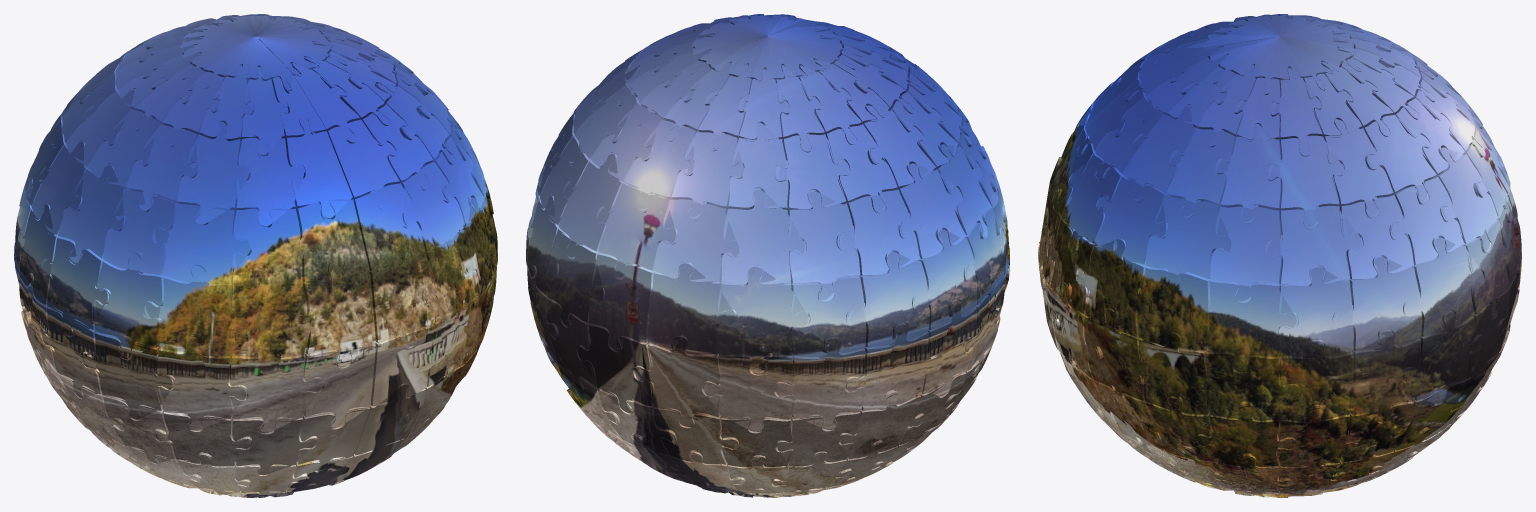
File: hard-puzzle-v6.fbx
3 views of the same model, side by side, from view 1: azimuth 30°, elevation 25°; view 2: azimuth 150°, elevation 25°; view 3: azimuth 270°, elevation 25° (orthographic).
Parts seen in each view (by area): view 1: Street_View_360_1.041, Street_View_360_1.117, Street_View_360_1.027, Street_View_360_1.134, Street_View_360_1.099, Street_View_360_1.135, Street_View_360_1.116, Street_View_360_1.118, Street_View_360_1.098, Street_View_360_1.026, Street_View_360_1.115, Street_View_360_1.081 (+57 smaller); view 2: Street_View_360_1.041, Street_View_360_1.104, Street_View_360_1.105, Street_View_360_1.086, Street_View_360_1.085, Street_View_360_1.121, Street_View_360_1.103, Street_View_360_1.122, Street_View_360_1.102, Street_View_360_1.123, Street_View_360_1.087, Street_View_360_1.120 (+57 smaller); view 3: Street_View_360_1.041, Street_View_360_1.111, Street_View_360_1.110, Street_View_360_1.109, Street_View_360_1.092, Street_View_360_1.112, Street_View_360_1.129, Street_View_360_1.093, Street_View_360_1.094, Street_View_360_1.127, Street_View_360_1.128, Street_View_360_1.108 (+59 smaller).
Boxes of the visible parts, x1,y1,x2,y2 form: Street_View_360_1.041: (179,14,345,90); Street_View_360_1.117: (144,264,249,356); Street_View_360_1.027: (291,263,375,366); Street_View_360_1.134: (229,340,321,432); Street_View_360_1.099: (152,203,251,283); Street_View_360_1.135: (156,336,247,430); Street_View_360_1.116: (230,282,308,357); Street_View_360_1.118: (93,252,164,358); Street_View_360_1.098: (232,208,302,298); Street_View_360_1.026: (285,199,369,282); Street_View_360_1.115: (368,248,436,348); Street_View_360_1.081: (103,189,177,275); Street_View_360_1.041: (675,15,860,81); Street_View_360_1.104: (716,265,808,373); Street_View_360_1.105: (634,262,737,354); Street_View_360_1.086: (721,189,804,284); Street_View_360_1.085: (788,191,860,301); Street_View_360_1.121: (775,336,865,429); Street_View_360_1.103: (790,276,866,356); Street_View_360_1.122: (704,354,794,431); Street_View_360_1.102: (848,251,929,347); Street_View_360_1.123: (635,336,720,426); Street_View_360_1.087: (654,199,738,281); Street_View_360_1.120: (845,322,941,410); Street_View_360_1.041: (1188,14,1359,91); Street_View_360_1.111: (1190,279,1297,371); Street_View_360_1.110: (1278,265,1353,356); Street_View_360_1.109: (1335,256,1422,351); Street_View_360_1.092: (1265,206,1361,286); Street_View_360_1.112: (1137,266,1210,351); Street_View_360_1.129: (1192,352,1298,420); Street_View_360_1.093: (1210,206,1281,302); Street_View_360_1.094: (1146,195,1232,289); Street_View_360_1.127: (1333,330,1420,421); Street_View_360_1.128: (1278,339,1354,421); Street_View_360_1.108: (1406,237,1483,336).
Bounding box in the file's own units: 241 × 241 × 241.
